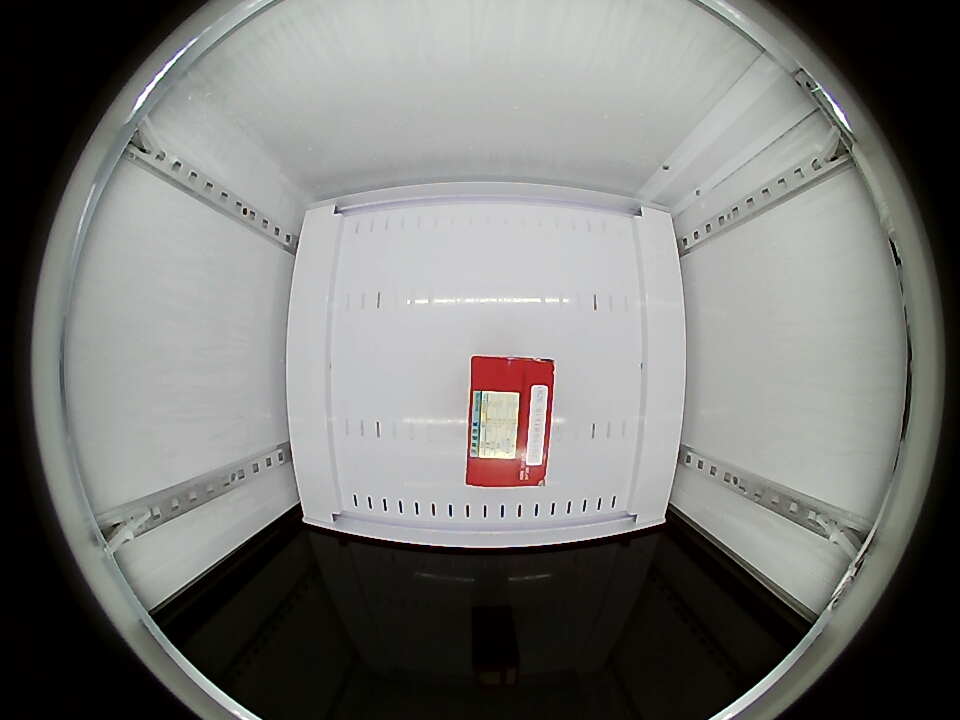haoliyou: (467, 356, 554, 487)
